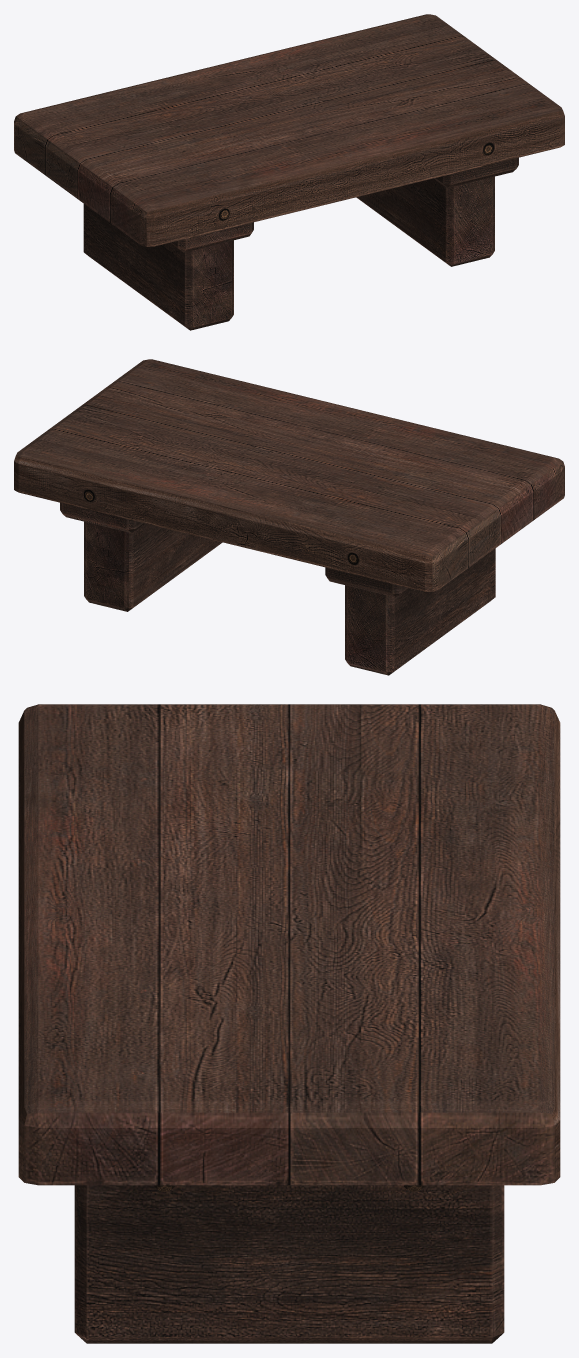
Rendered from coffee_table.glb.
3 views of the same model, one above another, from view 1: azimuth 30°, elevation 25°; view 2: azimuth 150°, elevation 25°; view 3: azimuth 270°, elevation 25° (orthographic). The views are drawn at different scales.
Parts seen in each view (by area): view 1: Object_2; view 2: Object_2; view 3: Object_2.
Boxes of the visible parts, box(x1,y1,x2,y2) form: Object_2: box(14, 14, 564, 330); Object_2: box(14, 359, 564, 675); Object_2: box(18, 704, 560, 1343).
Size of the model in its own units: 1.17 by 0.3877 by 0.647.
1 material, 1 textured.
